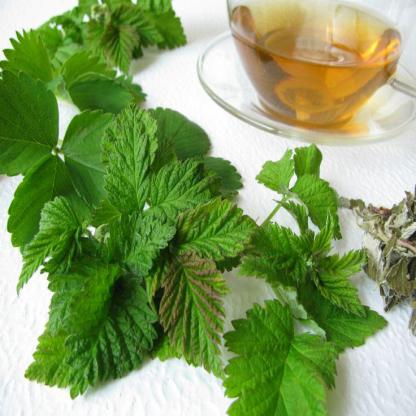raspberry leaf: (1, 74, 58, 174), (60, 109, 116, 206), (2, 29, 55, 88), (68, 75, 140, 114)
